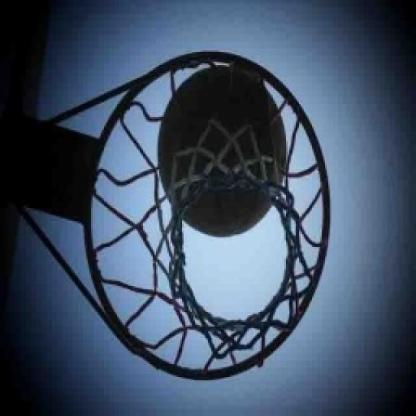basketball: (158, 61, 286, 240)
